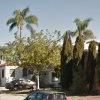Tree: (24, 15, 89, 73)
